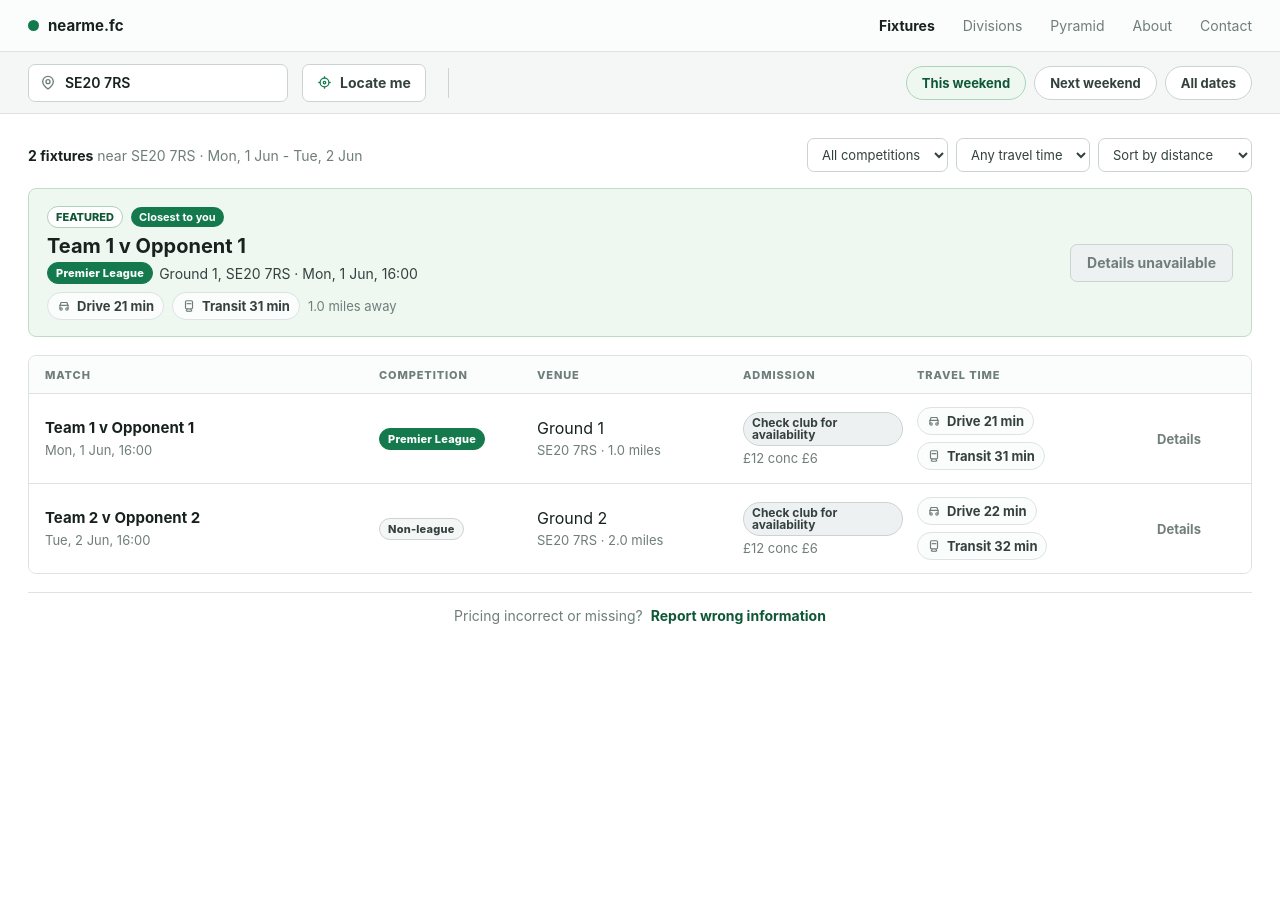
SearchDashboard › filters by competition category
Select "Premier League" in the dropdown named "Competition filter" at point(878, 155), box [807,138,948,172]
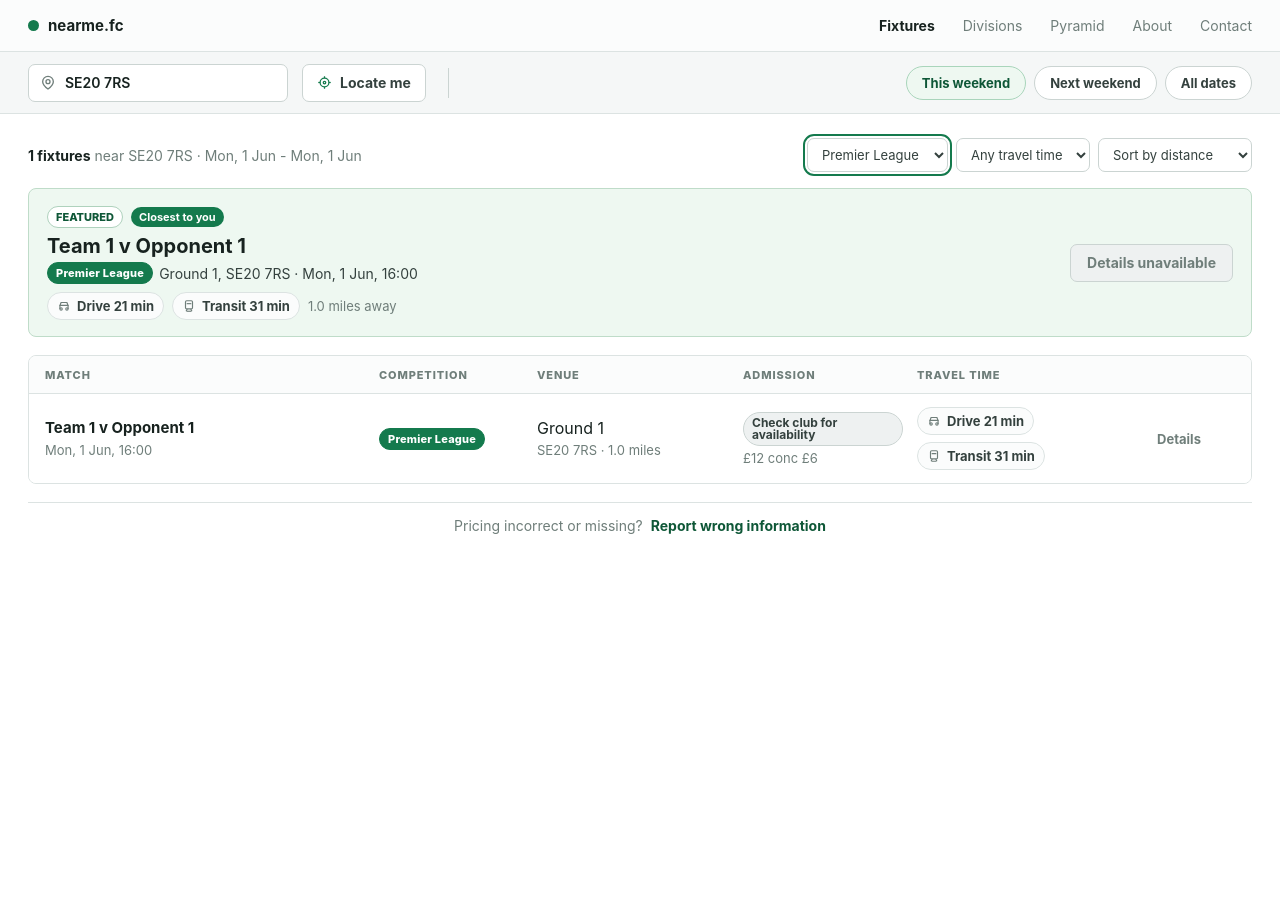
Expected: the text "Team 2 v Opponent 2" is not shown
